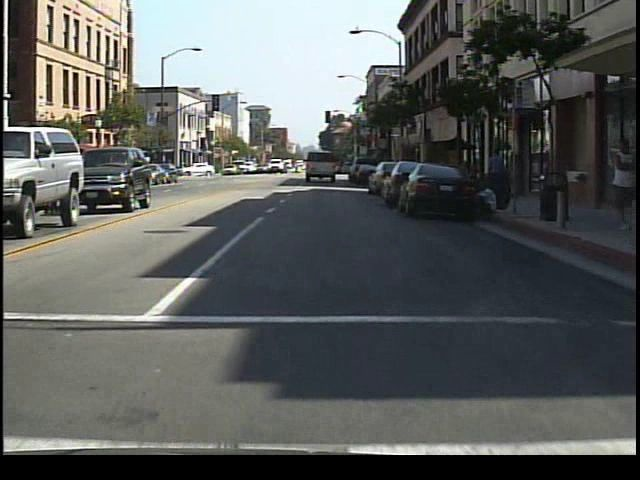person: (603, 125, 637, 238), (485, 142, 510, 205), (502, 149, 526, 203)
